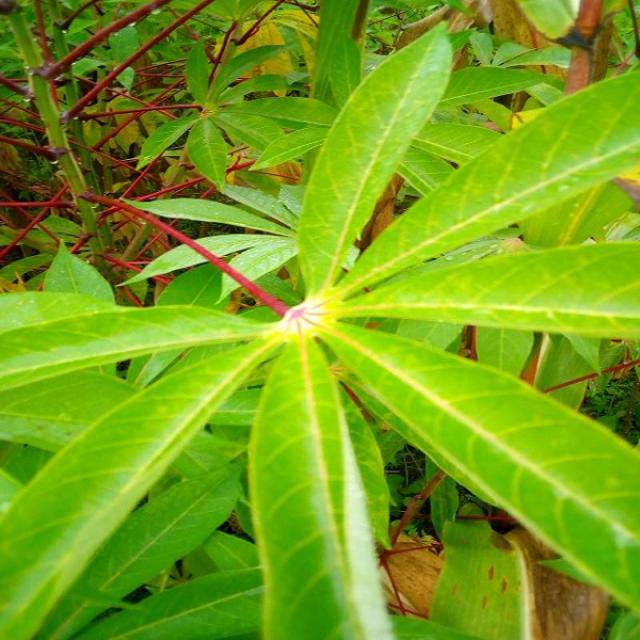cassava leaf: (0, 17, 638, 638), (246, 327, 394, 638), (295, 19, 453, 299)
